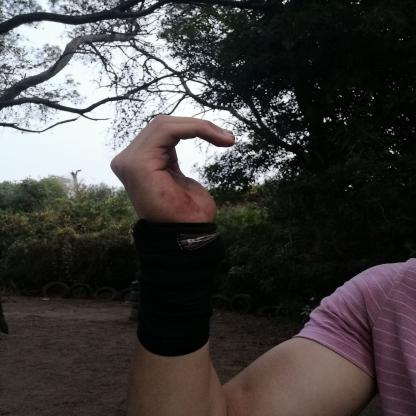HAA: (98, 103, 249, 236)
